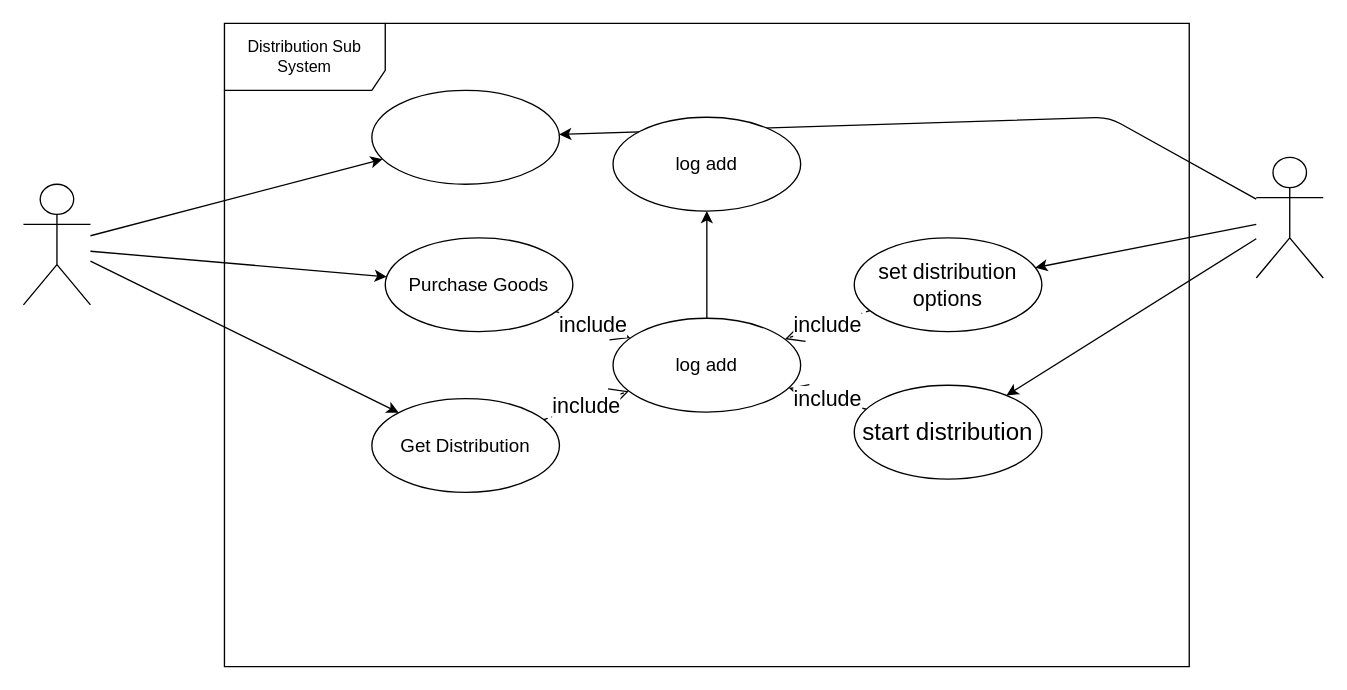
Some shapes in this 1347 by 690 pixel diagram are drawn without their labels. Each missing label, with the centre of its shape:
Admin: point (1289, 217)
log in: point (465, 136)
User: point (56, 244)
